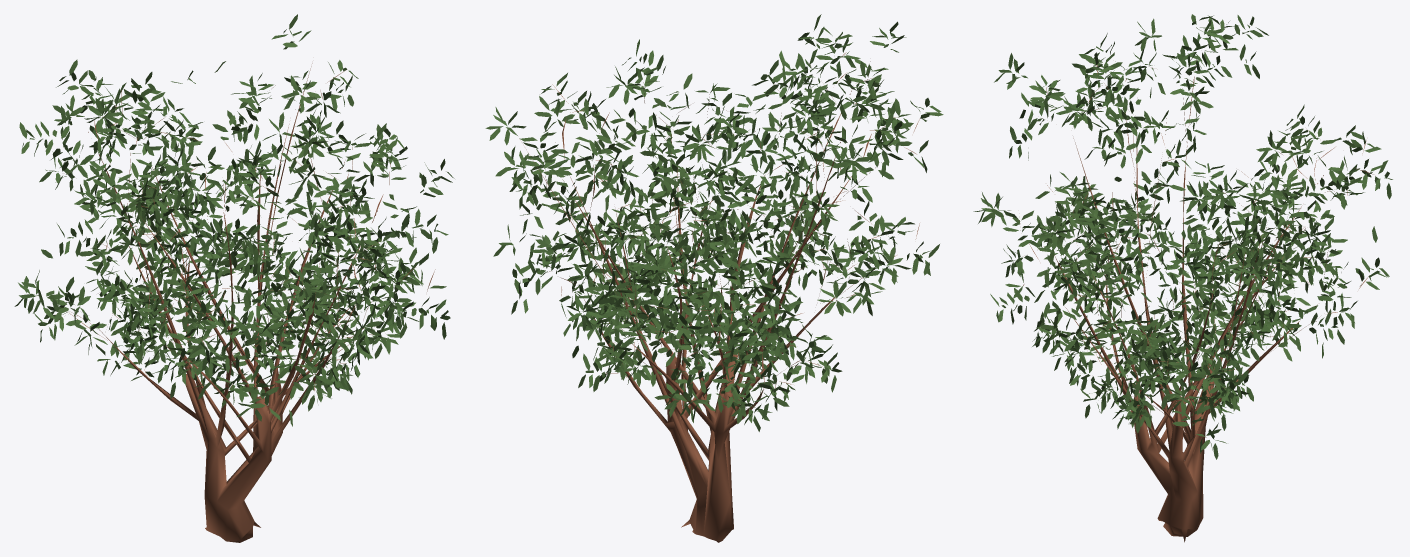
File: Arbousier_1_Niveau1.fbx
3 renders of one model, left to right at view 1: azimuth 30°, elevation 25°; view 2: azimuth 150°, elevation 25°; view 3: azimuth 270°, elevation 25°, orthographic. The views are drawn at different scales.
Visible parts, largest first — view 1: Arbousier_1_Niveau1_Jeu; view 2: Arbousier_1_Niveau1_Jeu; view 3: Arbousier_1_Niveau1_Jeu.
Boxes of the visible parts, x1=… form: Arbousier_1_Niveau1_Jeu: x1=14, y1=14, x2=454, y2=542; Arbousier_1_Niveau1_Jeu: x1=485, y1=14, x2=943, y2=542; Arbousier_1_Niveau1_Jeu: x1=973, y1=14, x2=1392, y2=542.
Size of the model in its own units: 297 by 345 by 289.
